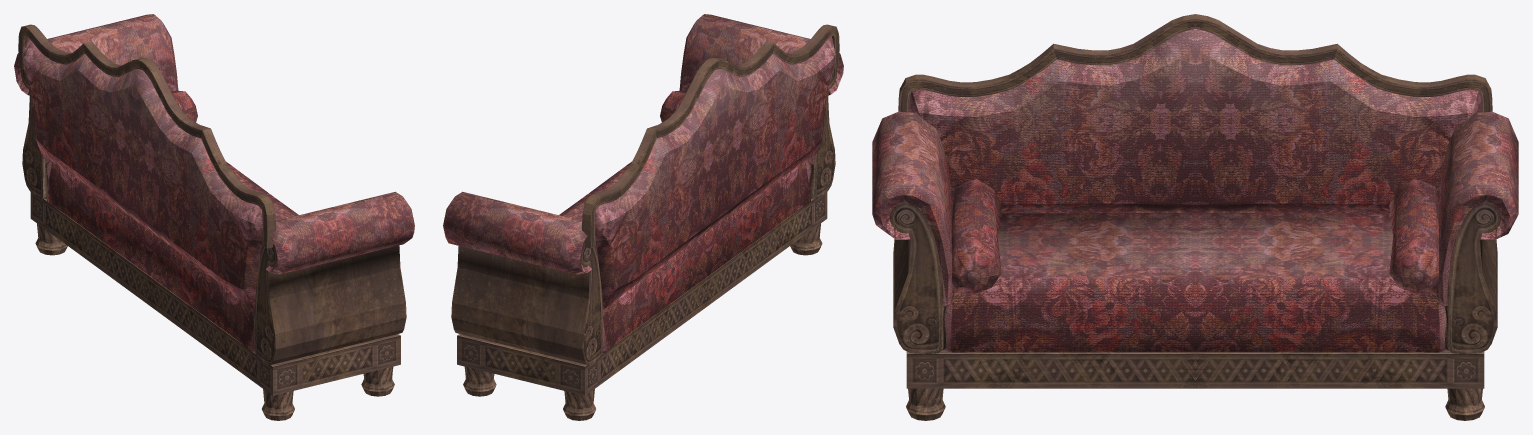
Rendered from bg_lut_lucastle_decoprop01_sm_cwk.FBX.
The picture shows the model from 3 angles, left to right: view 1: azimuth 30°, elevation 25°; view 2: azimuth 150°, elevation 25°; view 3: azimuth 270°, elevation 25°; orthographic projection. The views are drawn at different scales.
Parts seen in each view (by area): view 1: bg_lut_lucastle_decoprop01_sm_cwk; view 2: bg_lut_lucastle_decoprop01_sm_cwk; view 3: bg_lut_lucastle_decoprop01_sm_cwk.
Part boxes in pixels (x1,y1,x2,y2): bg_lut_lucastle_decoprop01_sm_cwk: (14, 14, 414, 420); bg_lut_lucastle_decoprop01_sm_cwk: (443, 14, 843, 420); bg_lut_lucastle_decoprop01_sm_cwk: (872, 14, 1518, 420).
Bounding box in the file's own units: 90.9 × 158 × 281.
